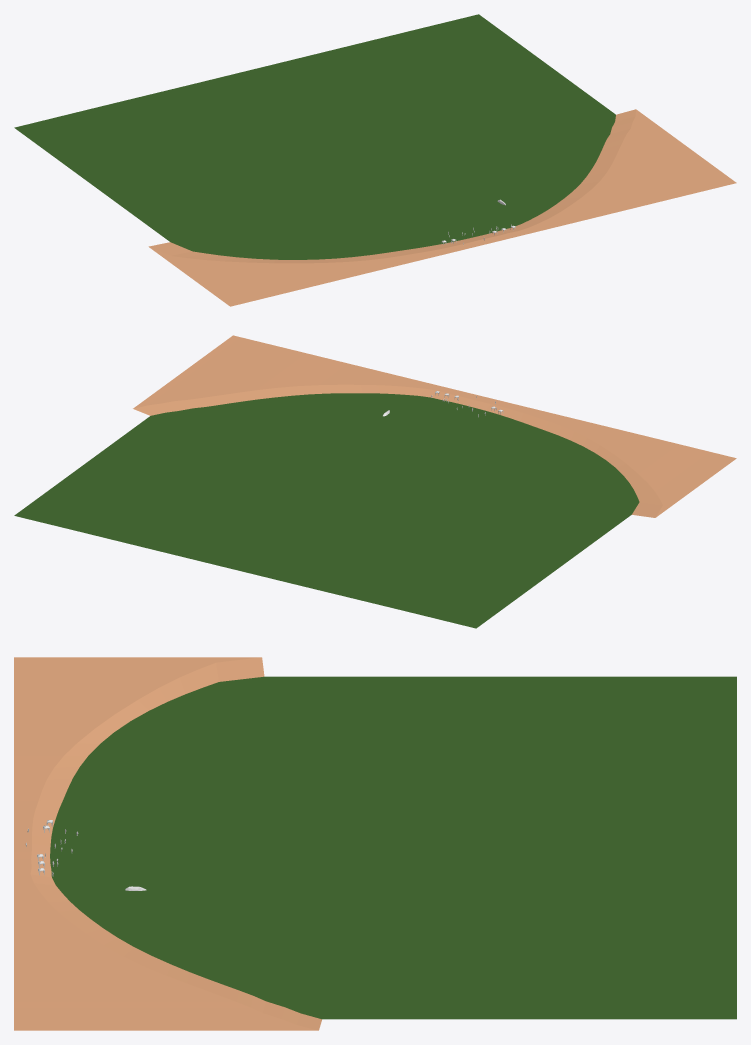
Rendered from mar_verde.fbx.
3 views of the same model, one above another, from view 1: azimuth 30°, elevation 25°; view 2: azimuth 150°, elevation 25°; view 3: azimuth 270°, elevation 25° (orthographic). The views are drawn at different scales.
Parts seen in each view (by area): view 1: mar enterrado, praia areia; view 2: mar enterrado, praia areia; view 3: mar enterrado, praia areia.
Part boxes in pixels (bbox=[...]): mar enterrado: bbox=[14, 14, 615, 259]; praia areia: bbox=[148, 109, 736, 306]; mar enterrado: bbox=[14, 393, 639, 628]; praia areia: bbox=[133, 335, 736, 517]; mar enterrado: bbox=[50, 676, 736, 1019]; praia areia: bbox=[14, 657, 321, 1030].
Bounding box in the file's own units: 31212 × 599 × 25526.
